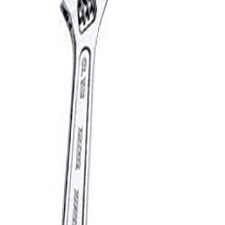Wrench: (50, 1, 123, 225)
